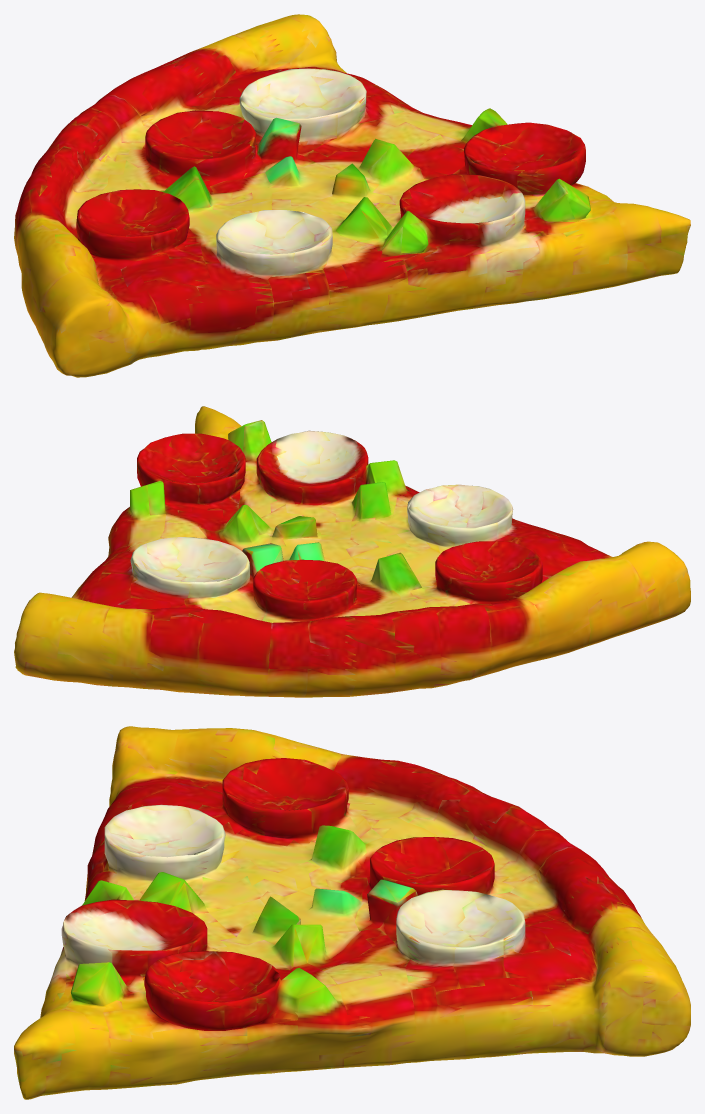
The model's file is pizza_slice.glb.
The picture shows the model from 3 angles, top to bottom: view 1: azimuth 30°, elevation 25°; view 2: azimuth 150°, elevation 25°; view 3: azimuth 270°, elevation 25°; orthographic projection. The views are drawn at different scales.
Bounding box in the file's own units: 1.91 × 0.2857 × 1.73.
Materials: 1 (1 with a texture image).
